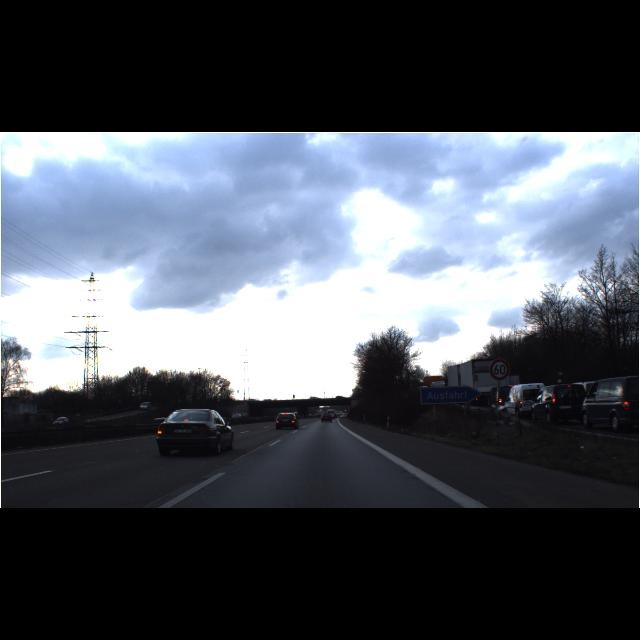prohibitory: (488, 358, 509, 380)
